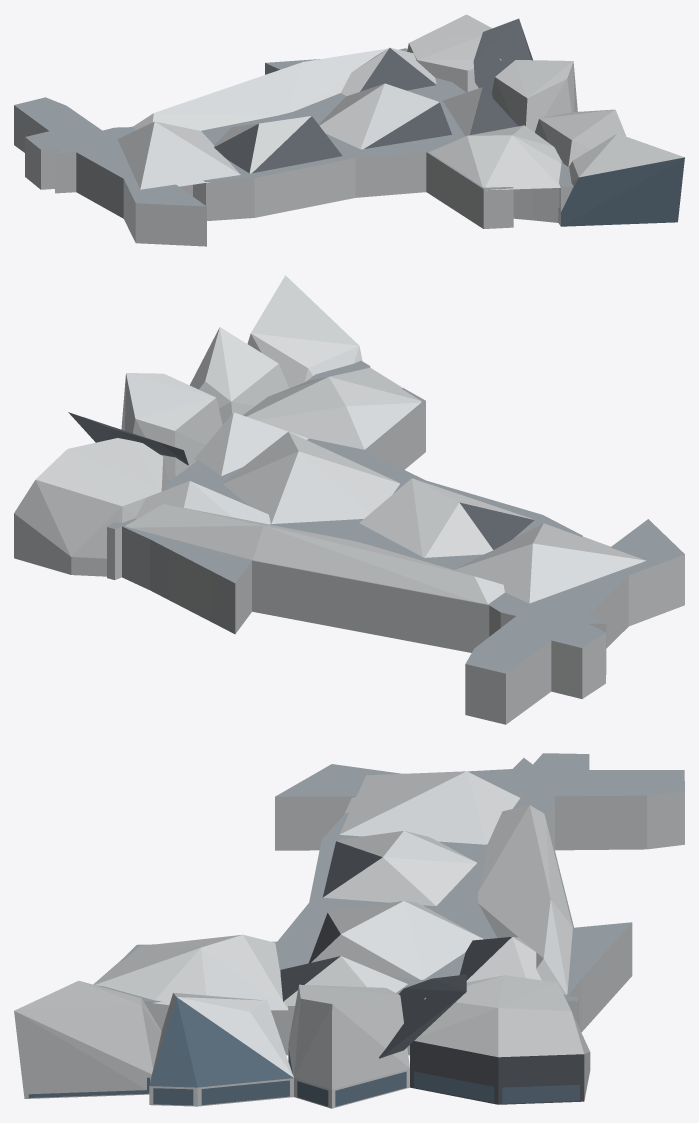
3 views of the same model, one above another, from view 1: azimuth 30°, elevation 25°; view 2: azimuth 150°, elevation 25°; view 3: azimuth 270°, elevation 25° (orthographic). The views are drawn at different scales.
Visible parts, largest first — view 1: the-shops-at-crystals; view 2: the-shops-at-crystals; view 3: the-shops-at-crystals.
Part boxes in pixels (x1,y1,x2,y2): the-shops-at-crystals: [14, 14, 684, 246]; the-shops-at-crystals: [14, 275, 684, 724]; the-shops-at-crystals: [14, 753, 684, 1108].
Size of the model in its own units: 204 by 35 by 192.
